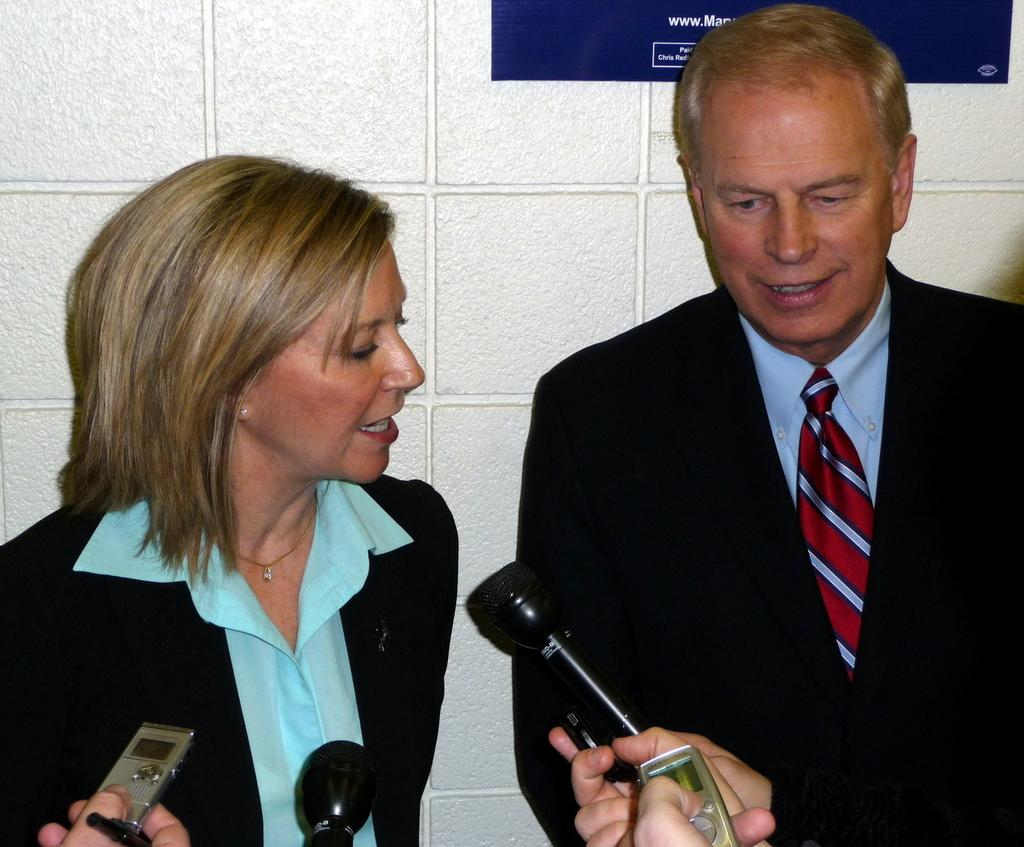no_helmet: (582, 76, 975, 182), (38, 202, 430, 307)
none: (552, 308, 1007, 800), (34, 492, 448, 774)
